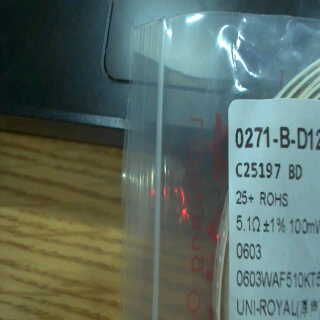5.1R: (231, 212, 264, 236)
